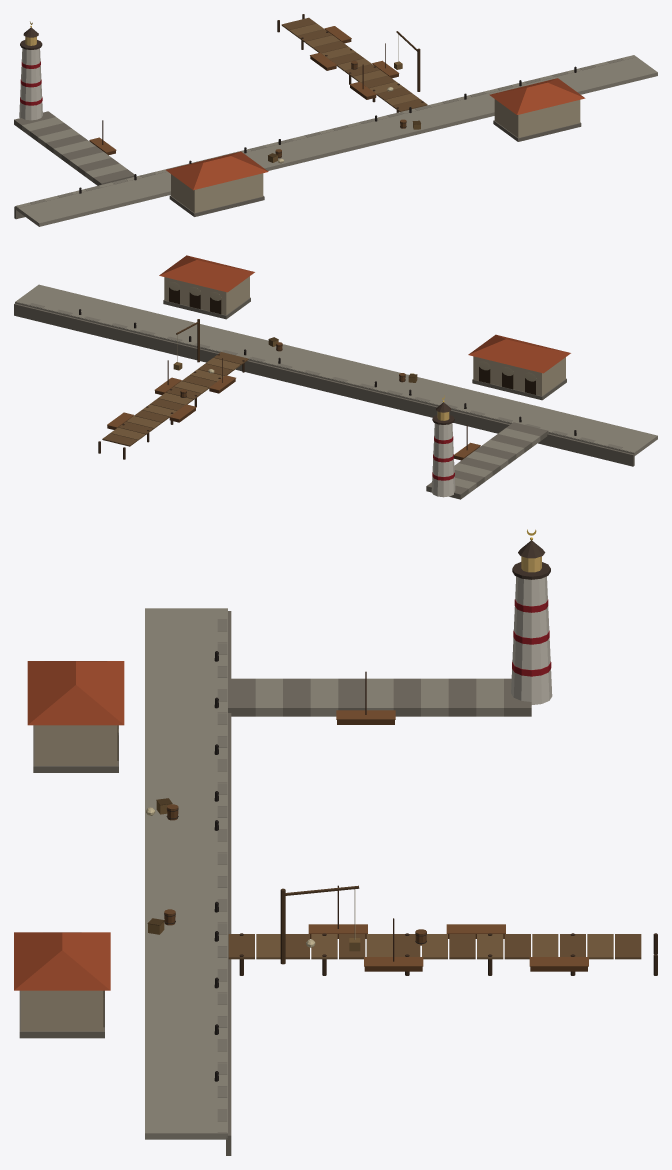
File: liman.glb
3 views of the same model, one above another, from view 1: azimuth 30°, elevation 25°; view 2: azimuth 150°, elevation 25°; view 3: azimuth 270°, elevation 25° (orthographic). The views are drawn at different scales.
Parts seen in each view (by area): view 1: liman.001; view 2: liman.001; view 3: liman.001.
Part boxes in pixels (x1=…): liman.001: x1=14, y1=14, x2=657, y2=226; liman.001: x1=14, y1=255, x2=657, y2=499; liman.001: x1=14, y1=529, x2=657, y2=1155.
Bounding box in the file's own units: 90 × 15.21 × 46.66.
